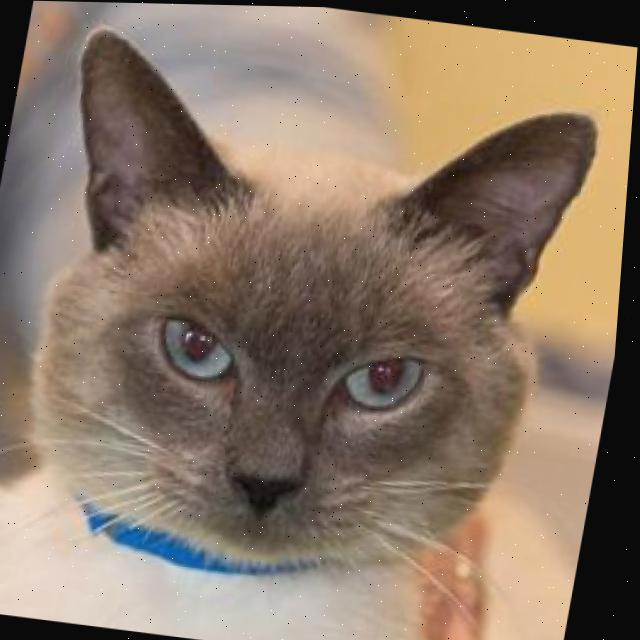Siamese: (0, 4, 616, 640)
